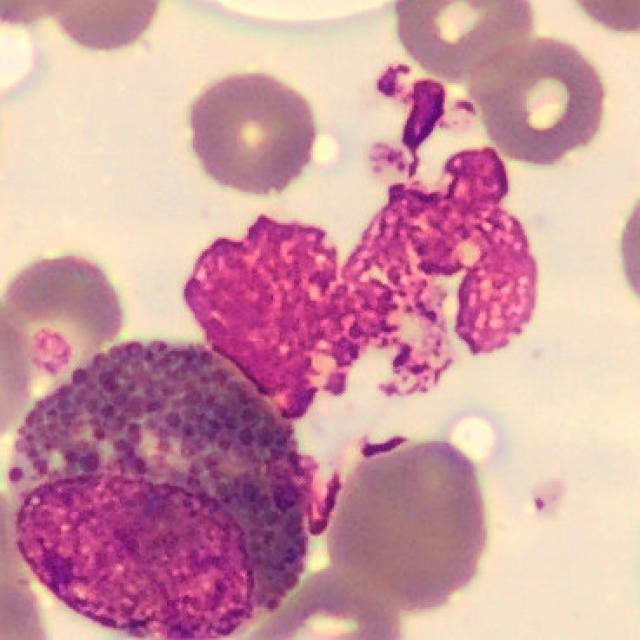Promielocito: (8, 334, 308, 634)
Restos celulares: (180, 61, 545, 530)
